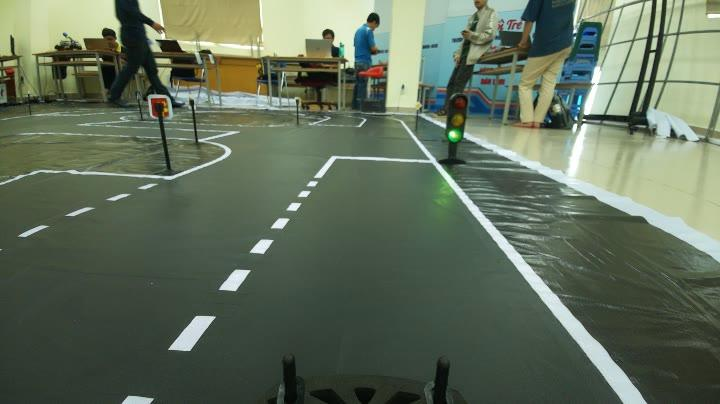trafficlight: (434, 86, 478, 180)
